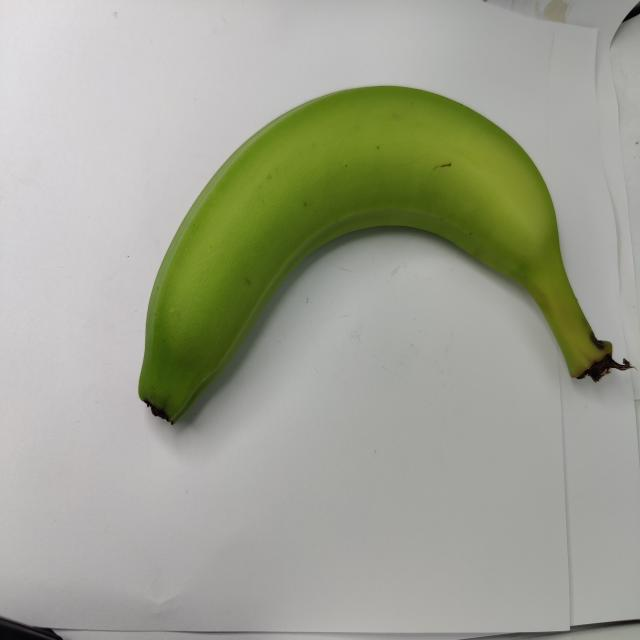raw: (132, 45, 632, 505)
